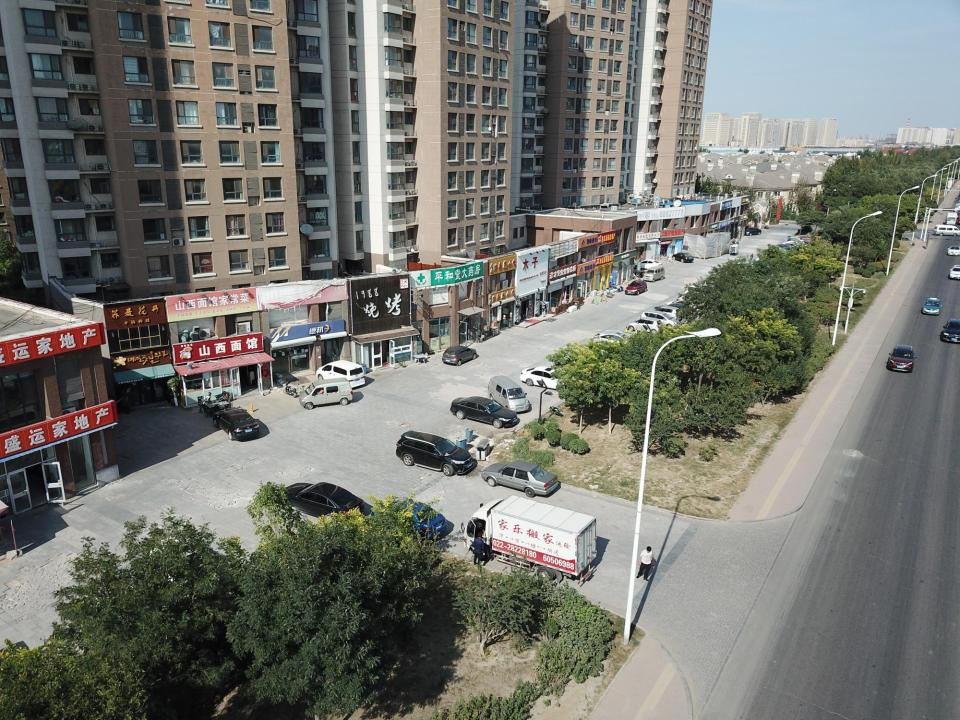car: (280, 481, 368, 523), (394, 430, 474, 476), (372, 496, 449, 541), (481, 459, 561, 498), (450, 395, 519, 429), (214, 406, 262, 442), (520, 366, 574, 390), (886, 344, 916, 374), (593, 330, 636, 347), (640, 310, 680, 328), (444, 346, 479, 366), (625, 317, 662, 334), (654, 303, 693, 319), (655, 305, 688, 323), (942, 317, 960, 342), (922, 297, 942, 315), (624, 280, 646, 295), (633, 259, 662, 268), (672, 253, 694, 262), (949, 265, 960, 279), (947, 245, 960, 255)
truck: (461, 494, 599, 586), (946, 212, 957, 225)
van: (298, 377, 354, 409), (488, 375, 530, 413), (316, 360, 367, 390), (643, 266, 665, 282), (932, 224, 960, 236)
